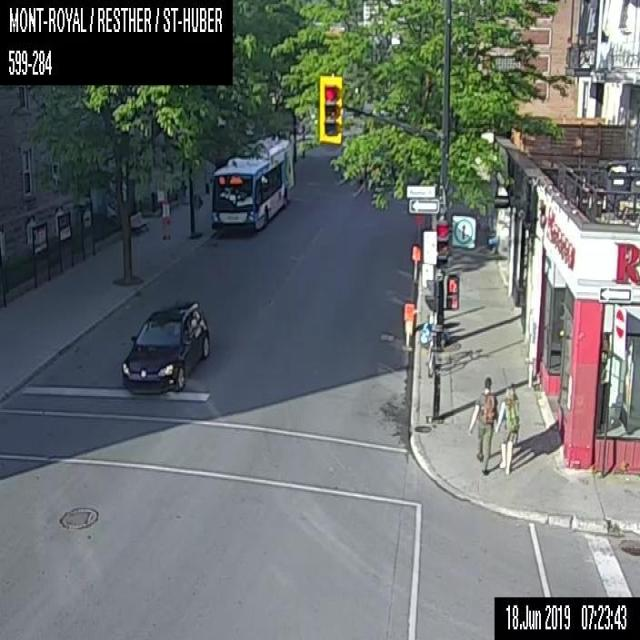bus: (210, 137, 292, 232)
construction: (403, 303, 414, 347), (411, 244, 420, 282)
pedestrian: (467, 376, 498, 474), (495, 384, 519, 475)
vehicle: (120, 302, 209, 395)
